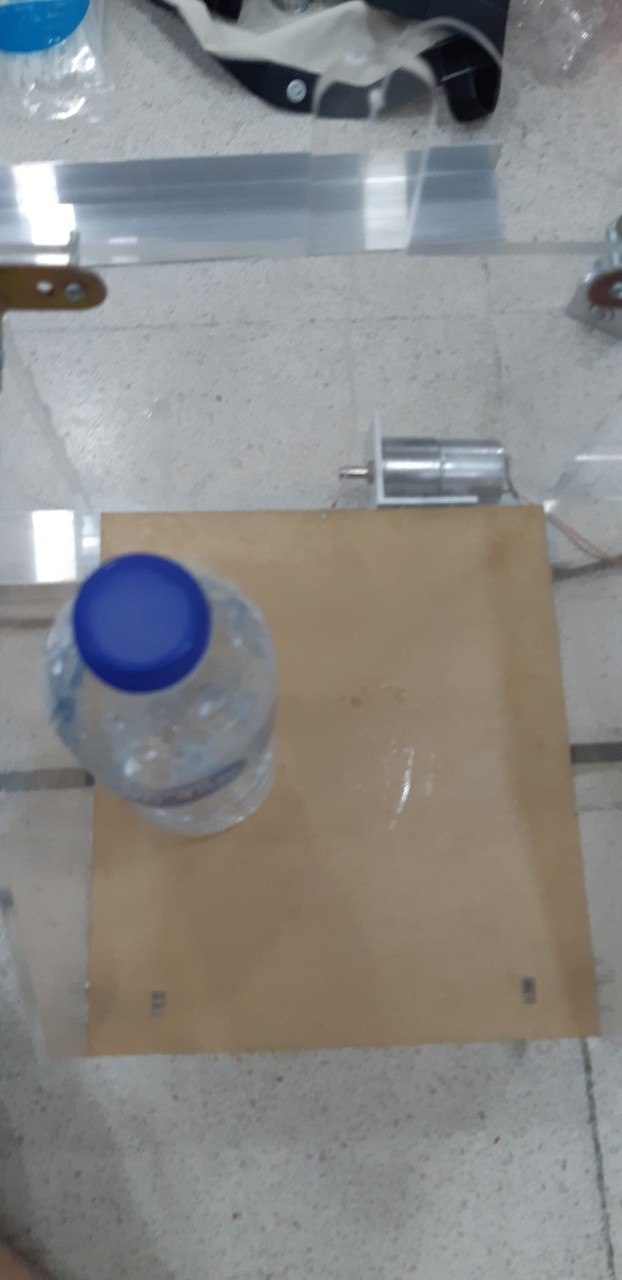PlasticBottle: (46, 549, 290, 845)
